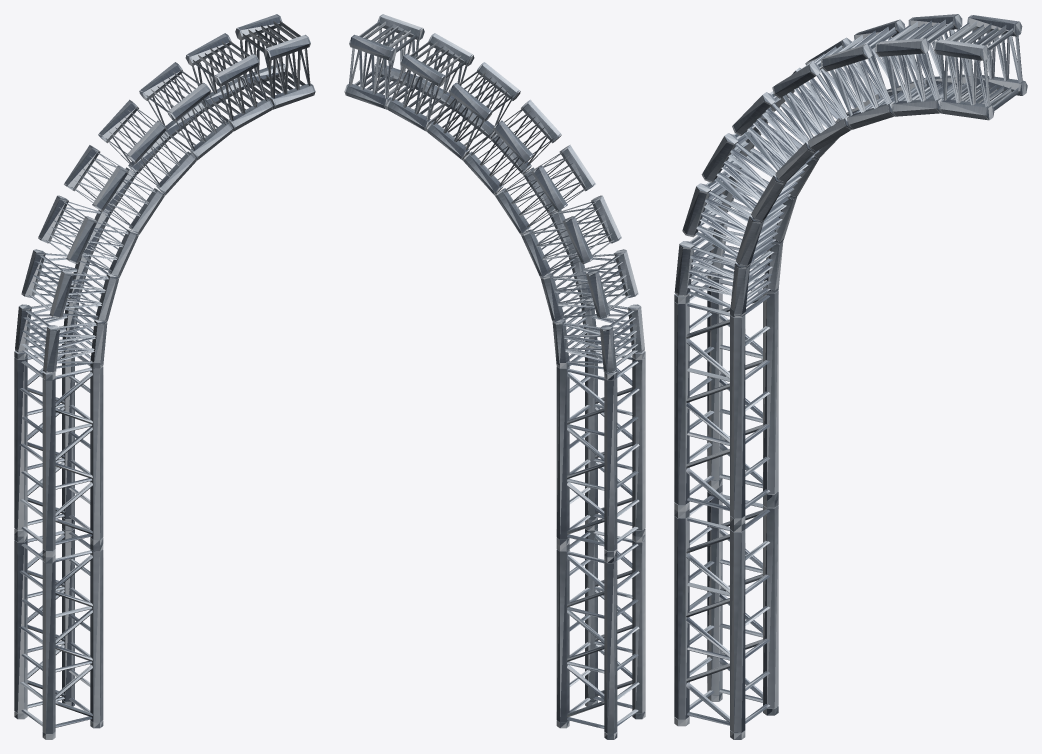
The model's file is raw-entry-arch.glb.
The picture shows the model from 3 angles, left to right: view 1: azimuth 30°, elevation 25°; view 2: azimuth 150°, elevation 25°; view 3: azimuth 330°, elevation 25°; orthographic projection. The views are drawn at different scales.
Visible parts, largest first — view 1: Arch_Quarter; view 2: Arch_Quarter; view 3: Arch_Quarter.
Boxes of the visible parts, x1=… form: Arch_Quarter: x1=14, y1=14, x2=315, y2=739; Arch_Quarter: x1=344, y1=14, x2=645, y2=739; Arch_Quarter: x1=674, y1=14, x2=1027, y2=739.
Bounding box in the file's own units: 3.84 × 8.74 × 0.863.
1 material, 1 textured.
